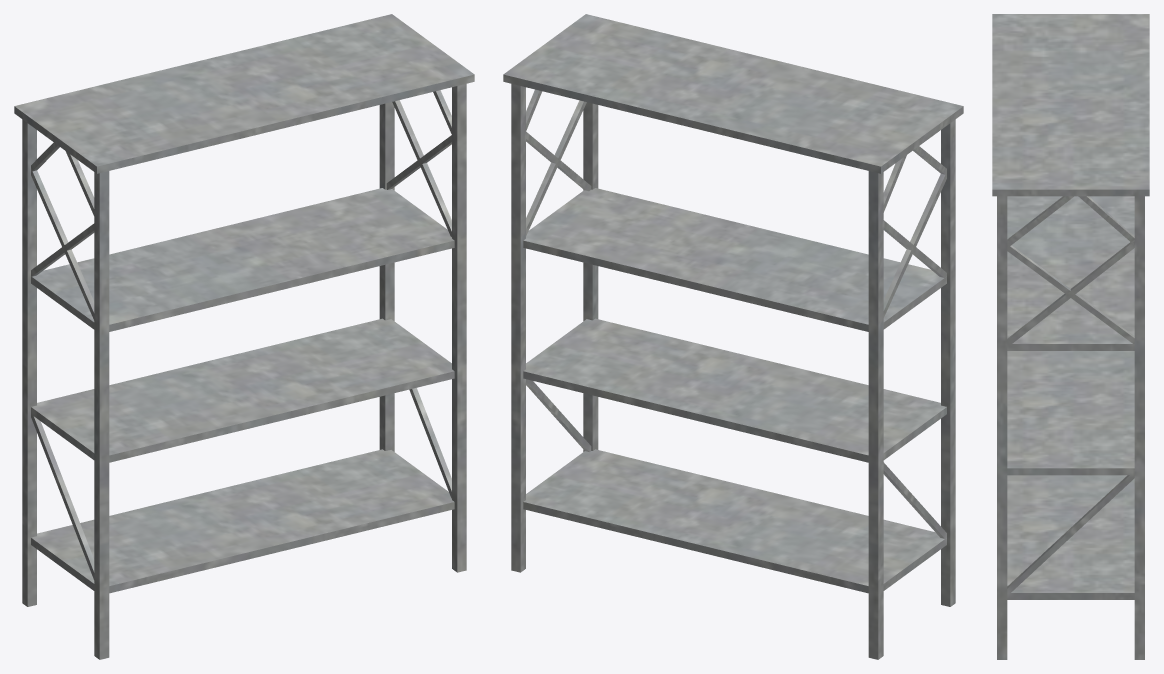
Rendered from SmallRoomShelf.fbx.
The picture shows the model from 3 angles, left to right: view 1: azimuth 30°, elevation 25°; view 2: azimuth 150°, elevation 25°; view 3: azimuth 270°, elevation 25°; orthographic projection. The views are drawn at different scales.
Visible parts, largest first — view 1: Shelf_Metal; view 2: Shelf_Metal; view 3: Shelf_Metal.
Boxes of the visible parts, x1,y1,x2,y2 form: Shelf_Metal: (14,14,474,659); Shelf_Metal: (503,14,963,659); Shelf_Metal: (992,14,1149,659).
Bounding box in the file's own units: 222 × 279 × 84.28.
